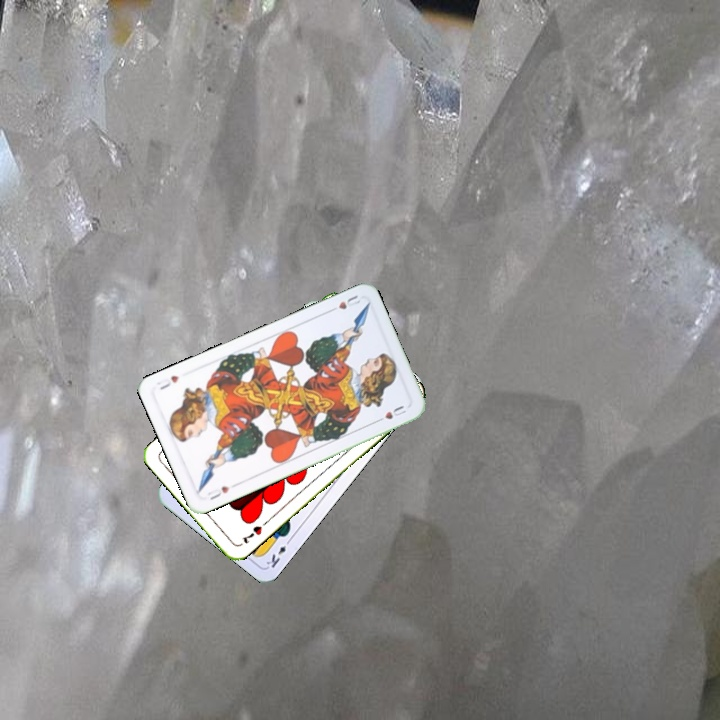EK: (262, 534, 294, 570)
H7: (237, 517, 270, 546)
HU: (325, 291, 364, 315), (203, 480, 239, 502)
